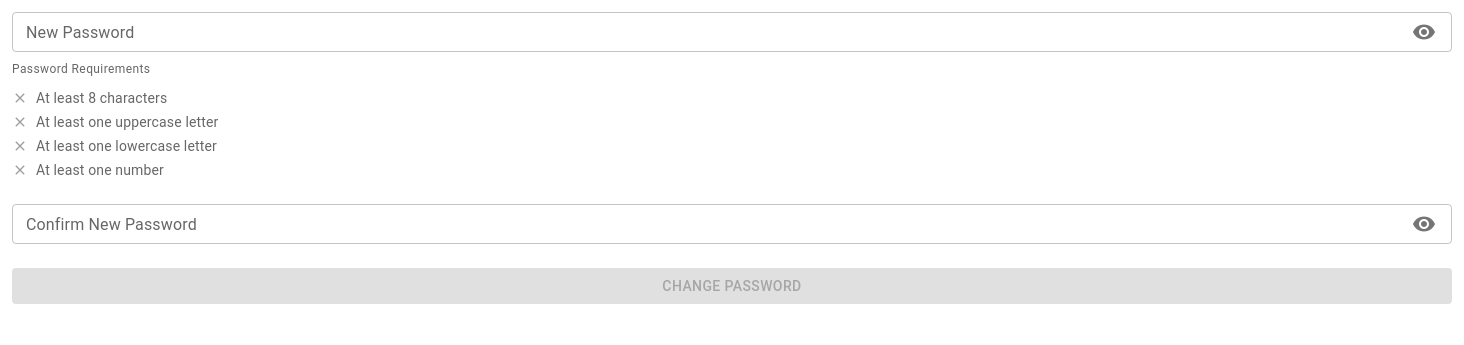
Test: ChangePasswordForm › should show error when passwords do not match
# Enter mismatched passwords
Type "Password123" into the password field labelled "New Password" at (706, 32), box [12, 12, 1399, 52]
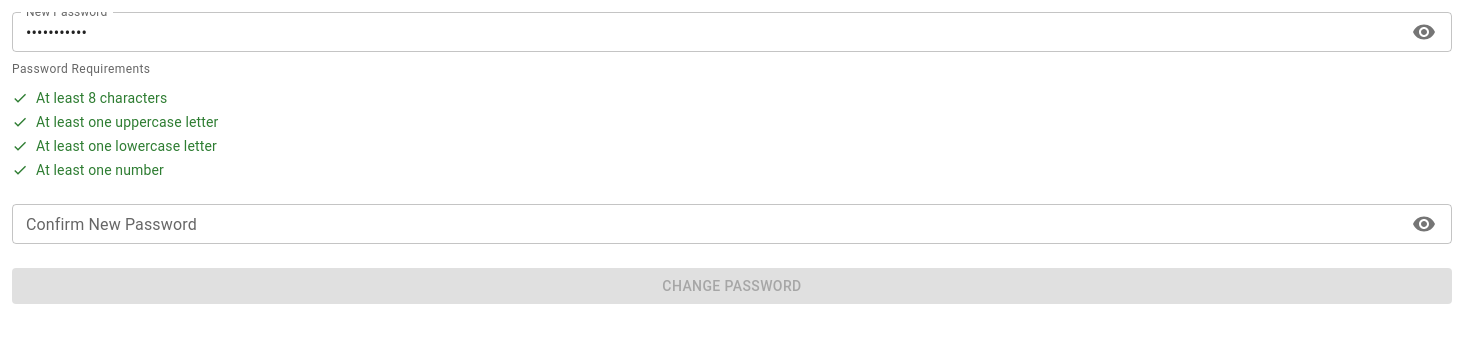
Type "Password456" into the password field labelled "Confirm New Password" at (706, 224), box [12, 204, 1399, 244]
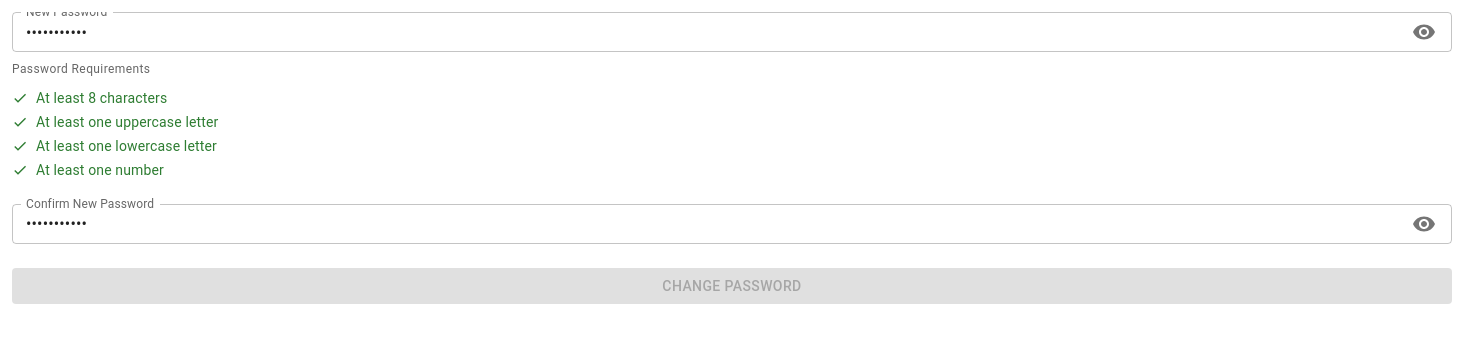
Leave the password field labelled "Confirm New Password", box [12, 204, 1399, 244]
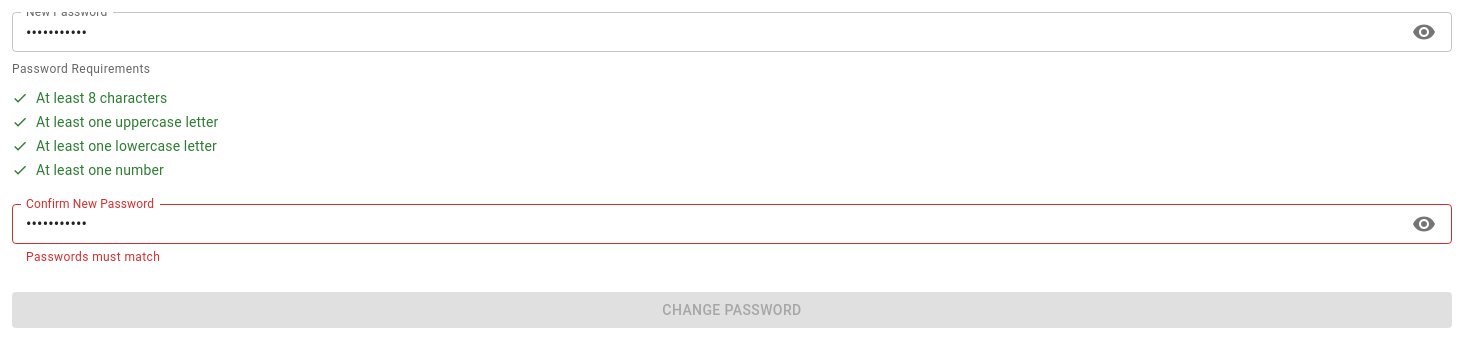
Expected: the text "Passwords must match" is shown, [26, 250, 160, 264]
